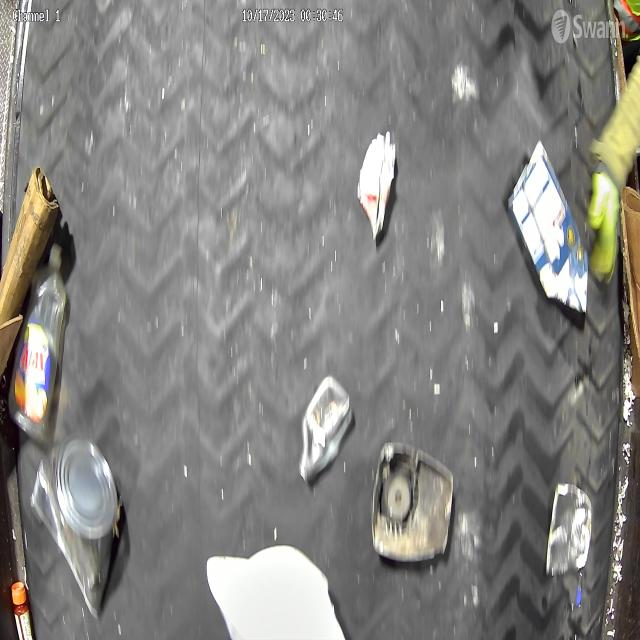can: (30, 432, 118, 618), (546, 484, 592, 576)
milk_jug: (206, 543, 349, 640)
non_white_jug: (508, 139, 589, 315), (297, 376, 353, 483)
plastic_bottle: (8, 244, 66, 442)
